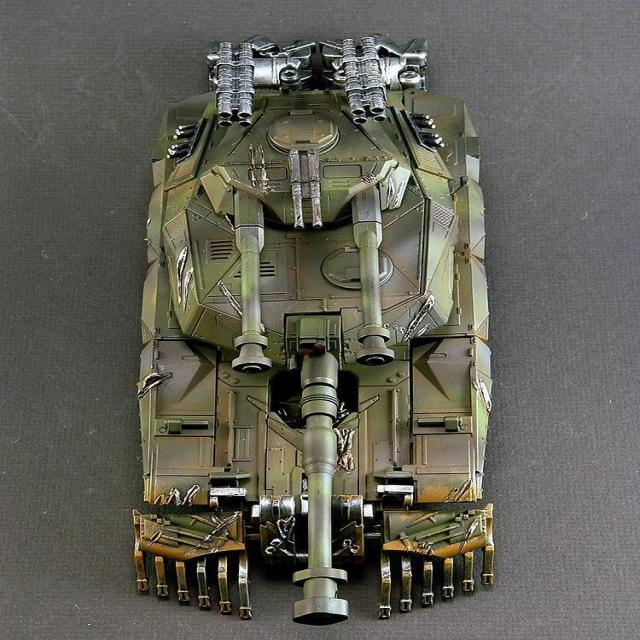Tanks: (127, 29, 501, 611)
